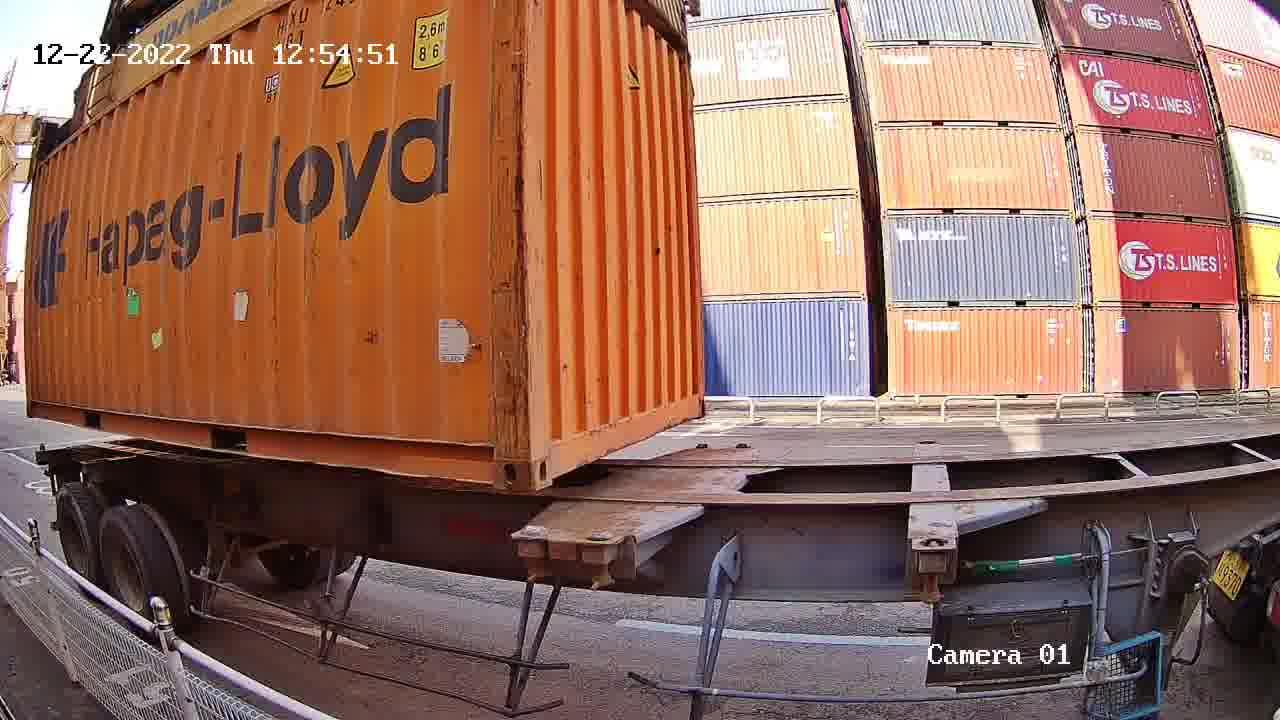Chassis: (521, 444, 710, 537), (581, 444, 755, 545)
Cone: (586, 527, 621, 592), (516, 526, 544, 584)
Hole_L: (533, 415, 579, 488)
Hole_R: (461, 427, 529, 488), (684, 383, 708, 421)
Tire: (100, 513, 155, 611), (57, 488, 95, 574)
